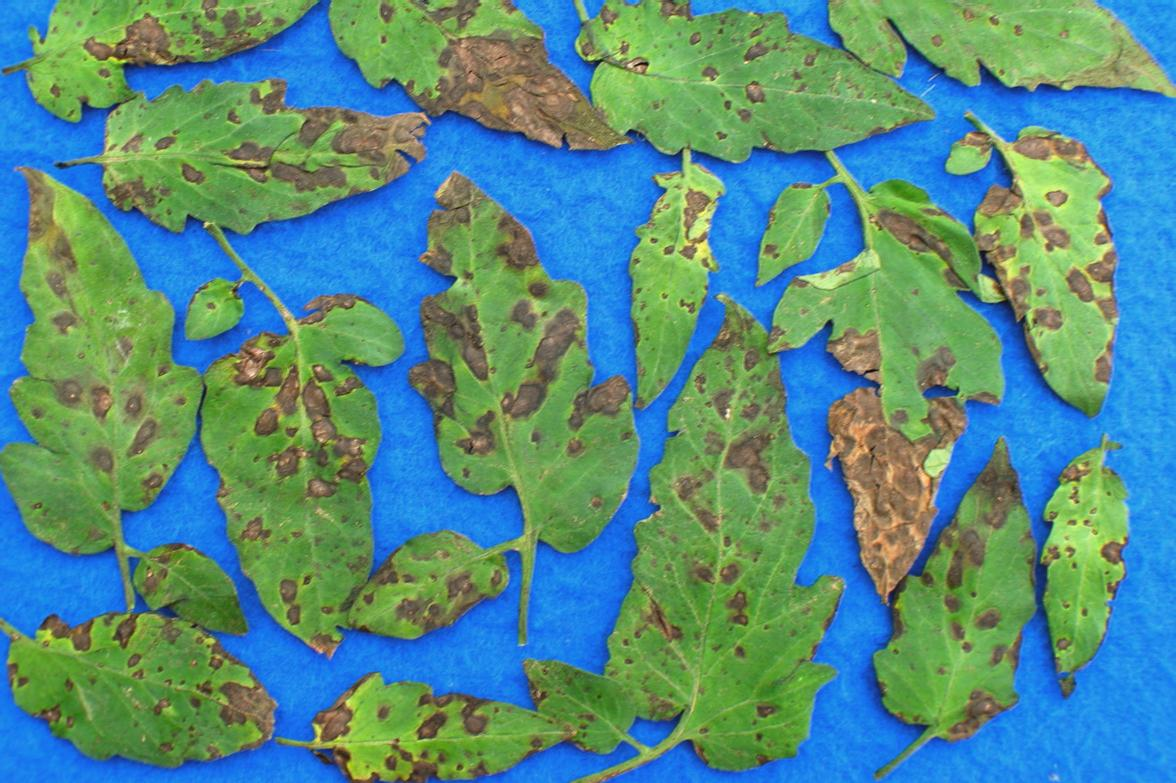Tomato Early blight leaf: (588, 262, 833, 773), (413, 176, 633, 558), (0, 159, 191, 563), (210, 302, 403, 670), (873, 439, 1040, 763), (100, 80, 443, 235), (567, 13, 918, 156), (327, 0, 637, 153), (3, 592, 278, 762), (975, 100, 1117, 423), (815, 0, 1170, 106), (20, 0, 328, 110), (1024, 435, 1135, 736), (278, 678, 578, 783), (627, 153, 733, 410), (745, 165, 851, 300), (135, 536, 241, 632)
